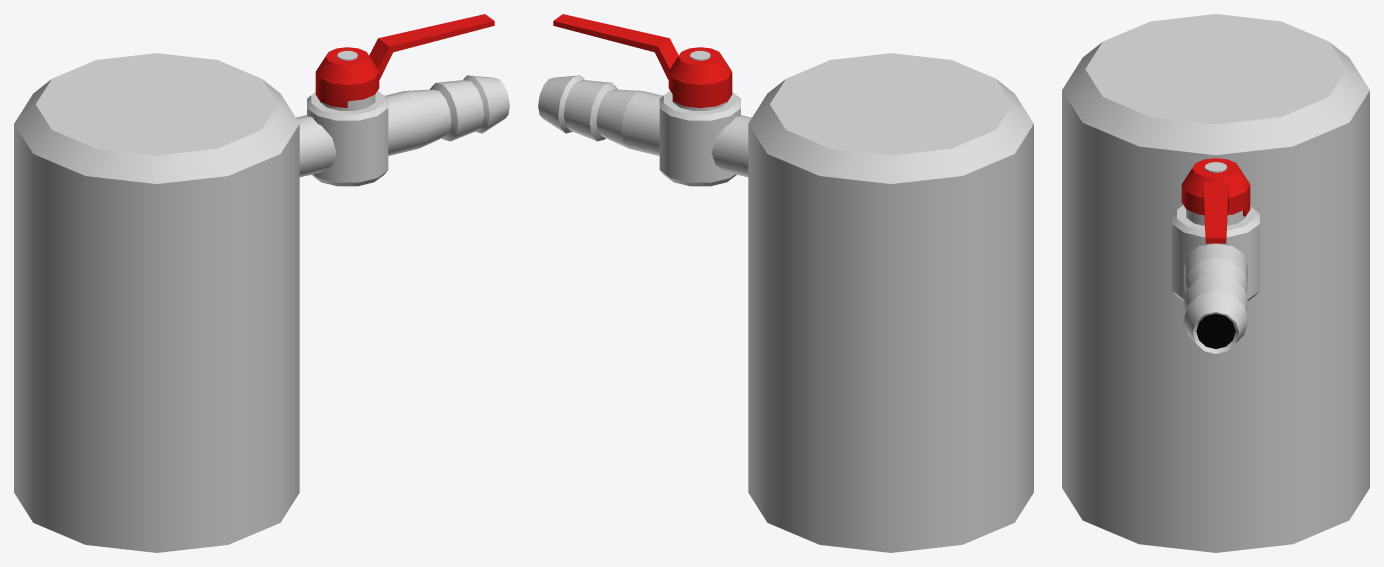
The model's file is Valvula gas.dae.
3 views of the same model, side by side, from view 1: azimuth 30°, elevation 25°; view 2: azimuth 150°, elevation 25°; view 3: azimuth 270°, elevation 25° (orthographic). The views are drawn at different scales.
Parts seen in each view (by area): view 1: Gas valve; view 2: Gas valve; view 3: Gas valve.
Part boxes in pixels (bbox=[...]): Gas valve: bbox=[14, 14, 509, 552]; Gas valve: bbox=[538, 14, 1033, 552]; Gas valve: bbox=[1062, 14, 1369, 552].
Bounding box in the file's own units: 0.0753 × 0.04 × 0.061.
